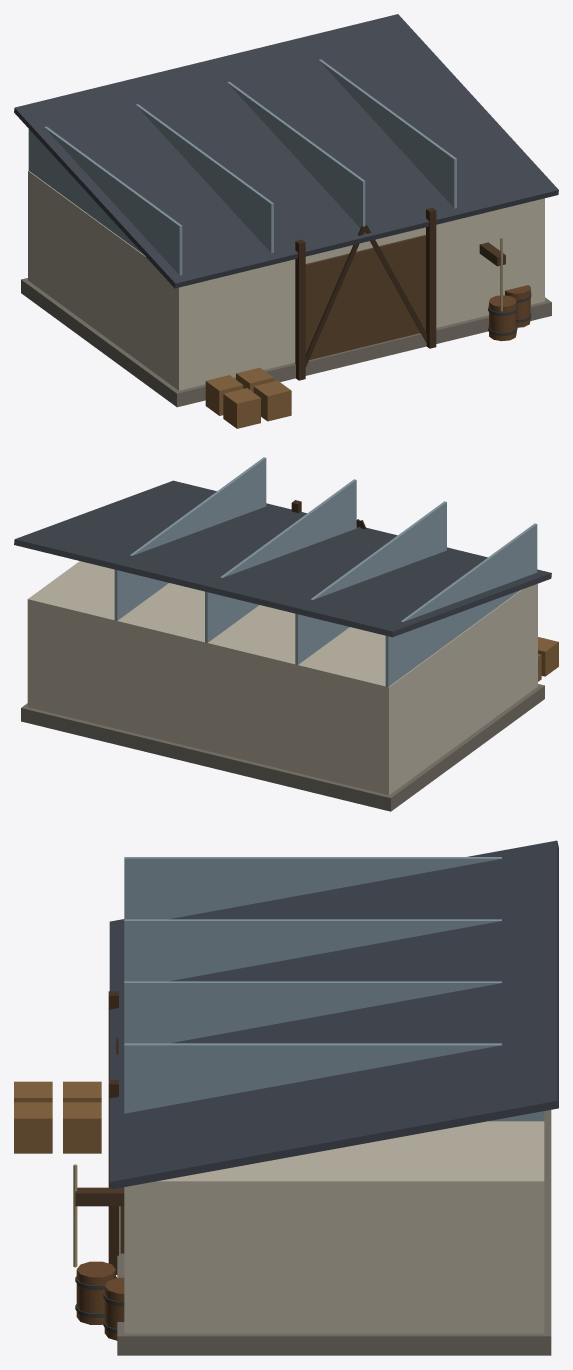
The model's file is procedural_warehouse@5.glb.
The picture shows the model from 3 angles, top to bottom: view 1: azimuth 30°, elevation 25°; view 2: azimuth 150°, elevation 25°; view 3: azimuth 270°, elevation 25°; orthographic projection. The views are drawn at different scales.
Parts seen in each view (by area): view 1: part_0; view 2: part_0; view 3: part_0.
Boxes of the visible parts, x1,y1,x2,y2 form: part_0: (14,14,558,428); part_0: (14,457,558,811); part_0: (14,840,558,1355).
Bounding box in the file's own units: 8.8 × 4.06 × 7.78.
